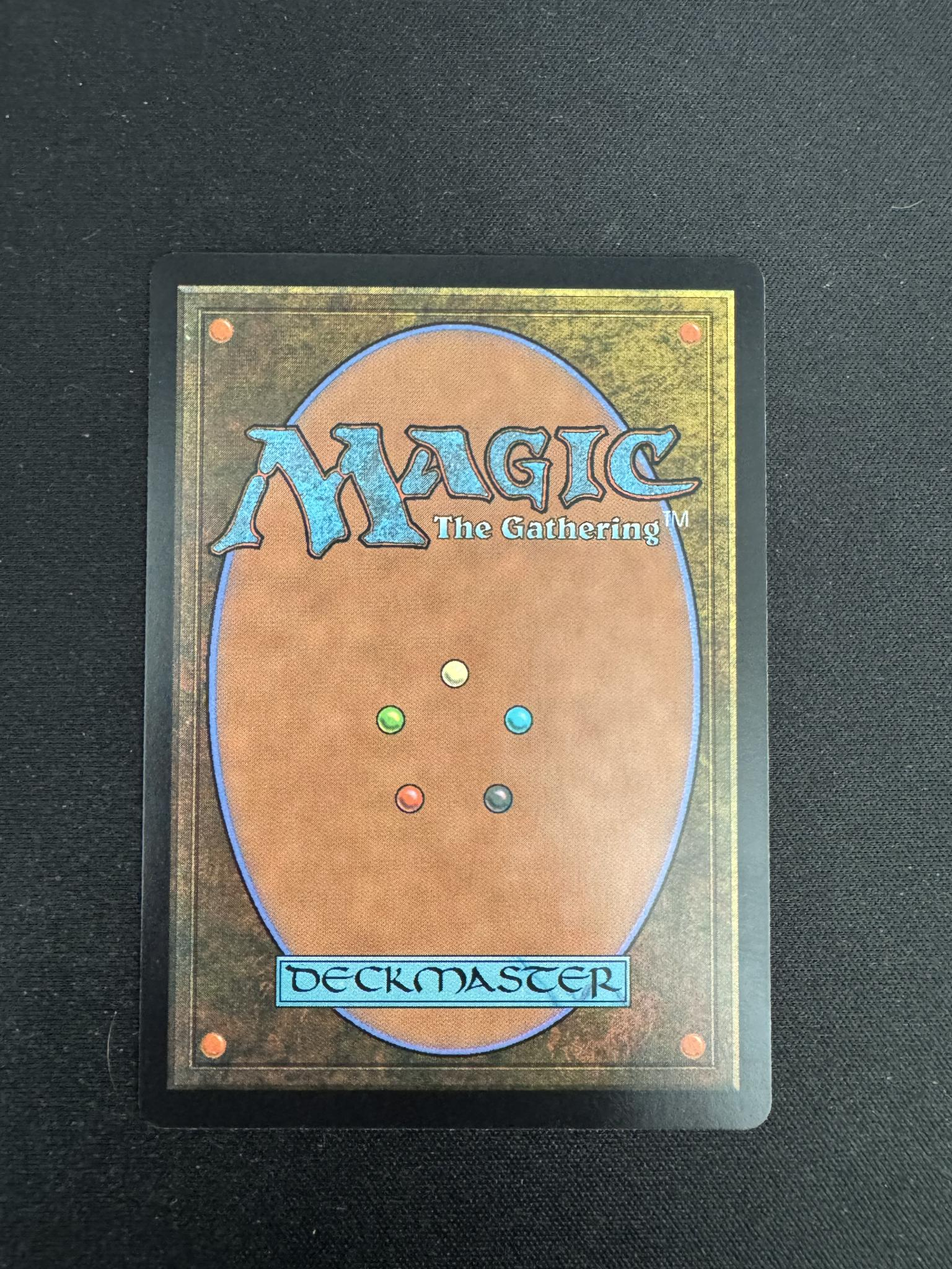card-2UtV: (138, 251, 773, 1130)
